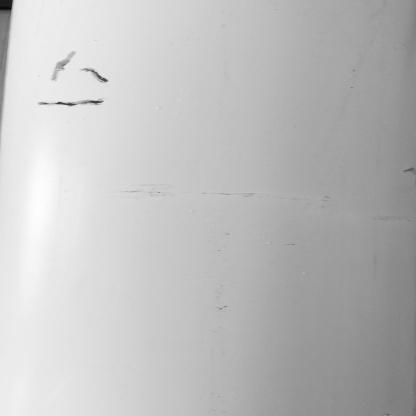sunshang: (41, 52, 119, 87), (27, 97, 110, 107)
